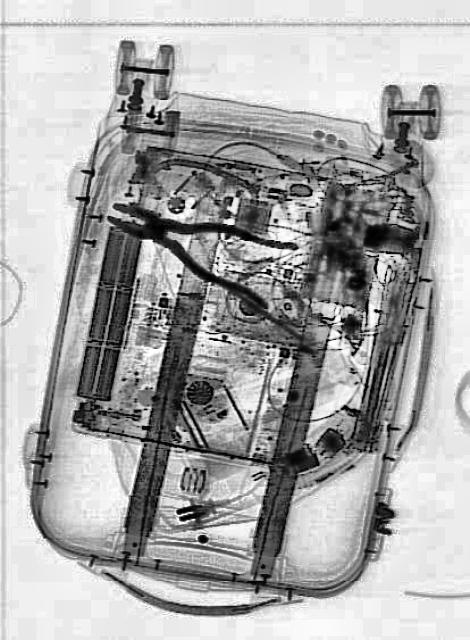Pliers: (98, 173, 300, 315)
